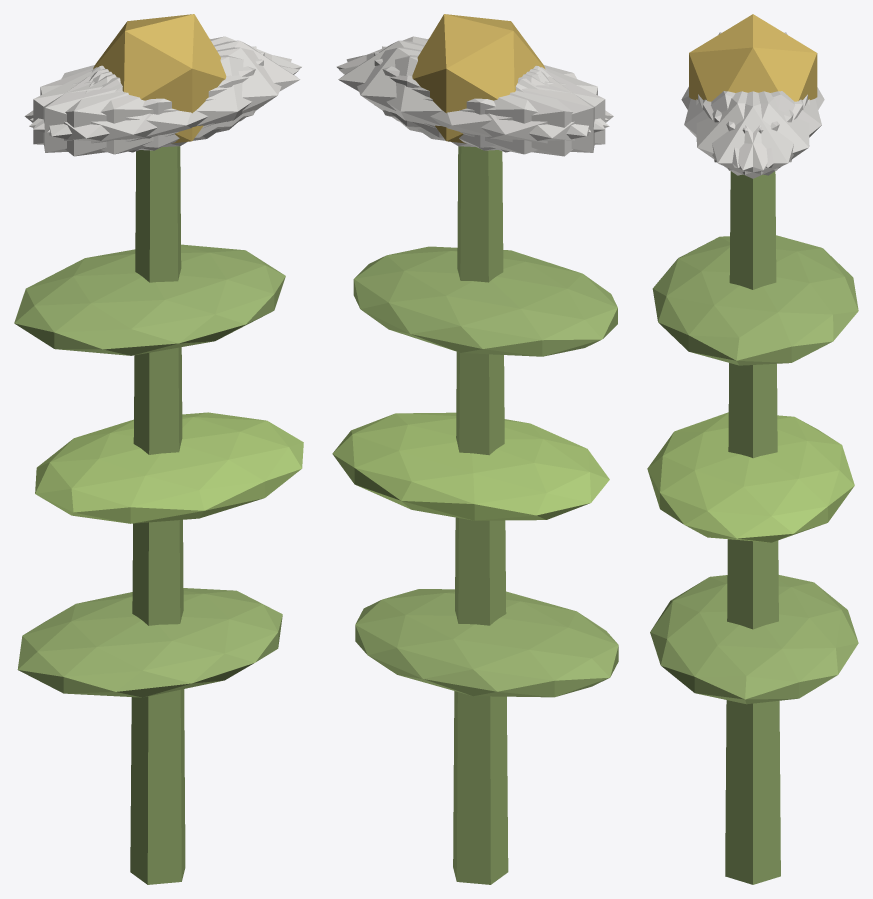
File: cespedesia-spathulata.glb
3 renders of one model, left to right at view 1: azimuth 30°, elevation 25°; view 2: azimuth 150°, elevation 25°; view 3: azimuth 270°, elevation 25°, orthographic.
Visible parts, largest first — view 1: stem, leaf1, leaf2, leaf0, center, petal1, petal6, petal2, petal5, petal7, petal0, petal4 (+2 smaller); view 2: stem, leaf2, leaf1, leaf0, center, petal8, petal3, petal7, petal4, petal2, petal0, petal5 (+2 smaller); view 3: stem, leaf1, leaf2, leaf0, center, petal0, petal5, petal4, petal8, petal1.
Boxes of the visible parts, <box> form: stem: <box>130,146,185,884</box>; leaf1: <box>35,412,303,523</box>; leaf2: <box>14,244,285,355</box>; leaf0: <box>17,588,282,697</box>; center: <box>93,14,226,143</box>; petal1: <box>29,55,299,154</box>; petal6: <box>24,67,220,156</box>; petal2: <box>43,46,256,152</box>; petal5: <box>47,47,291,147</box>; petal7: <box>33,52,264,150</box>; petal0: <box>92,40,300,137</box>; petal4: <box>30,36,301,129</box>; stem: <box>453,146,508,884</box>; leaf2: <box>353,246,617,356</box>; leaf1: <box>332,412,609,520</box>; leaf0: <box>355,589,618,697</box>; center: <box>412,14,545,143</box>; petal8: <box>339,55,609,154</box>; petal3: <box>418,67,613,156</box>; petal7: <box>382,46,594,152</box>; petal4: <box>346,47,591,147</box>; petal2: <box>374,52,605,150</box>; petal0: <box>338,40,545,137</box>; petal5: <box>336,36,608,129</box>; stem: <box>725,171,780,884</box>; leaf1: <box>647,412,854,542</box>; leaf2: <box>652,235,858,365</box>; leaf0: <box>650,575,858,704</box>; center: <box>689,14,817,101</box>; petal0: <box>698,91,807,178</box>; petal5: <box>696,91,803,175</box>; petal4: <box>703,91,809,175</box>; petal8: <box>712,91,821,167</box>; petal1: <box>684,91,793,167</box>.
Size of the model in its own units: 0.1495 by 0.4433 by 0.1009.
